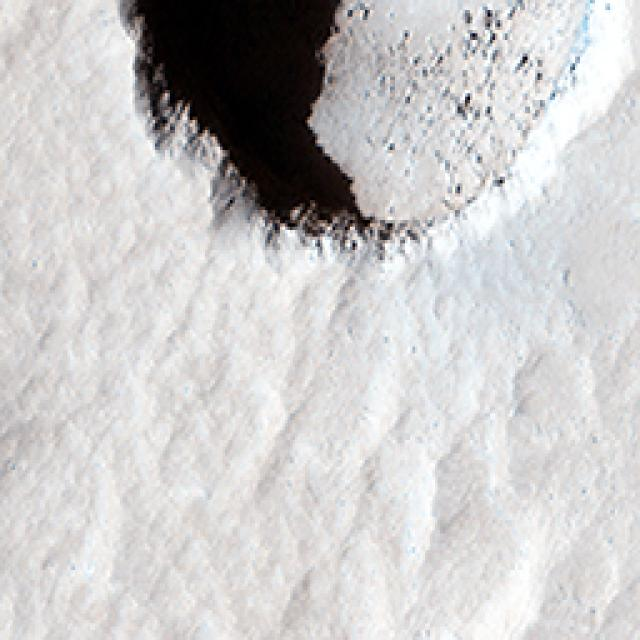Crater: (47, 0, 640, 286)
